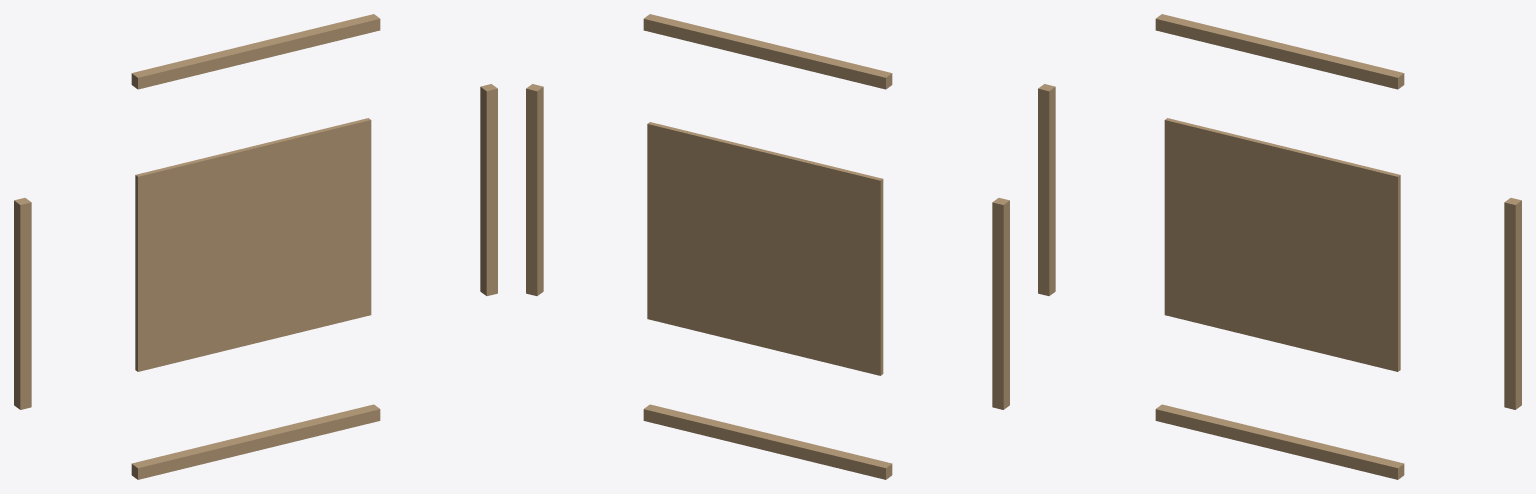
File: painting.glb
The picture shows the model from 3 angles, left to right: view 1: azimuth 30°, elevation 25°; view 2: azimuth 150°, elevation 25°; view 3: azimuth 330°, elevation 25°; orthographic projection.
Parts seen in each view (by area): view 1: painting; view 2: painting; view 3: painting.
Part boxes in pixels (bbox=[...]): painting: bbox=[14, 14, 497, 479]; painting: bbox=[526, 14, 1009, 479]; painting: bbox=[1038, 14, 1521, 479].
Bounding box in the file's own units: 0.512 × 0.412 × 0.0135.
